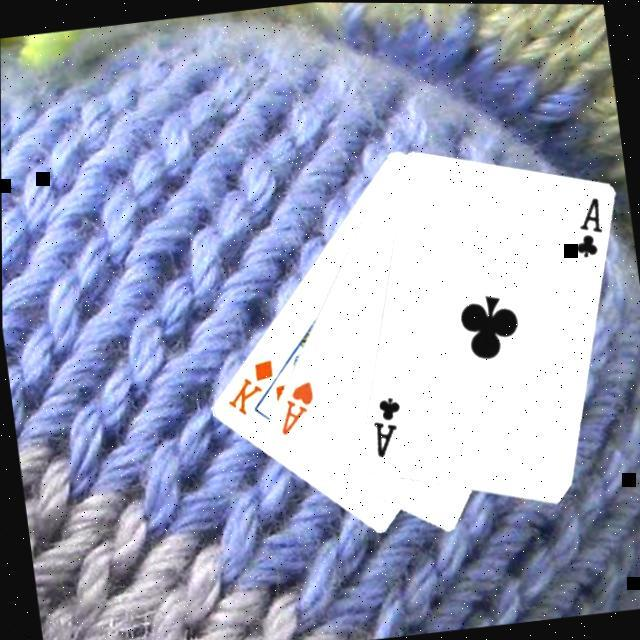AC: (365, 390, 409, 459), (566, 191, 608, 260)
AH: (270, 374, 321, 437)
KD: (218, 352, 280, 418)
